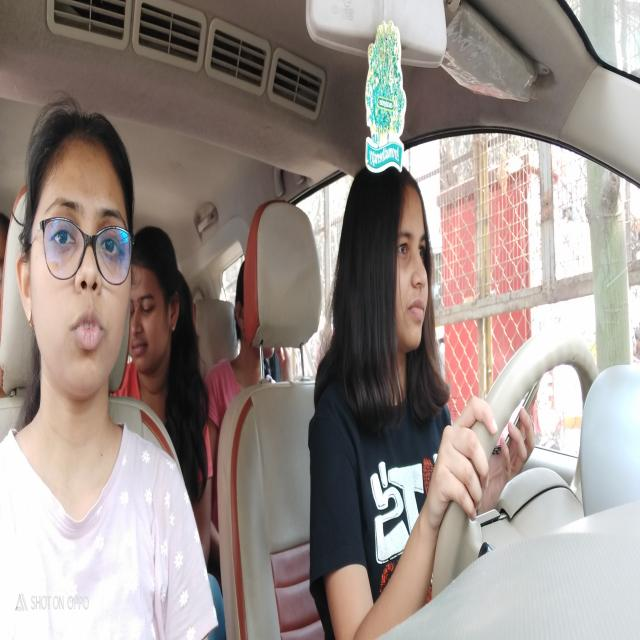mobile: (495, 386, 545, 437)
person: (22, 103, 136, 400), (344, 162, 441, 358), (133, 226, 185, 380), (238, 266, 282, 381)
